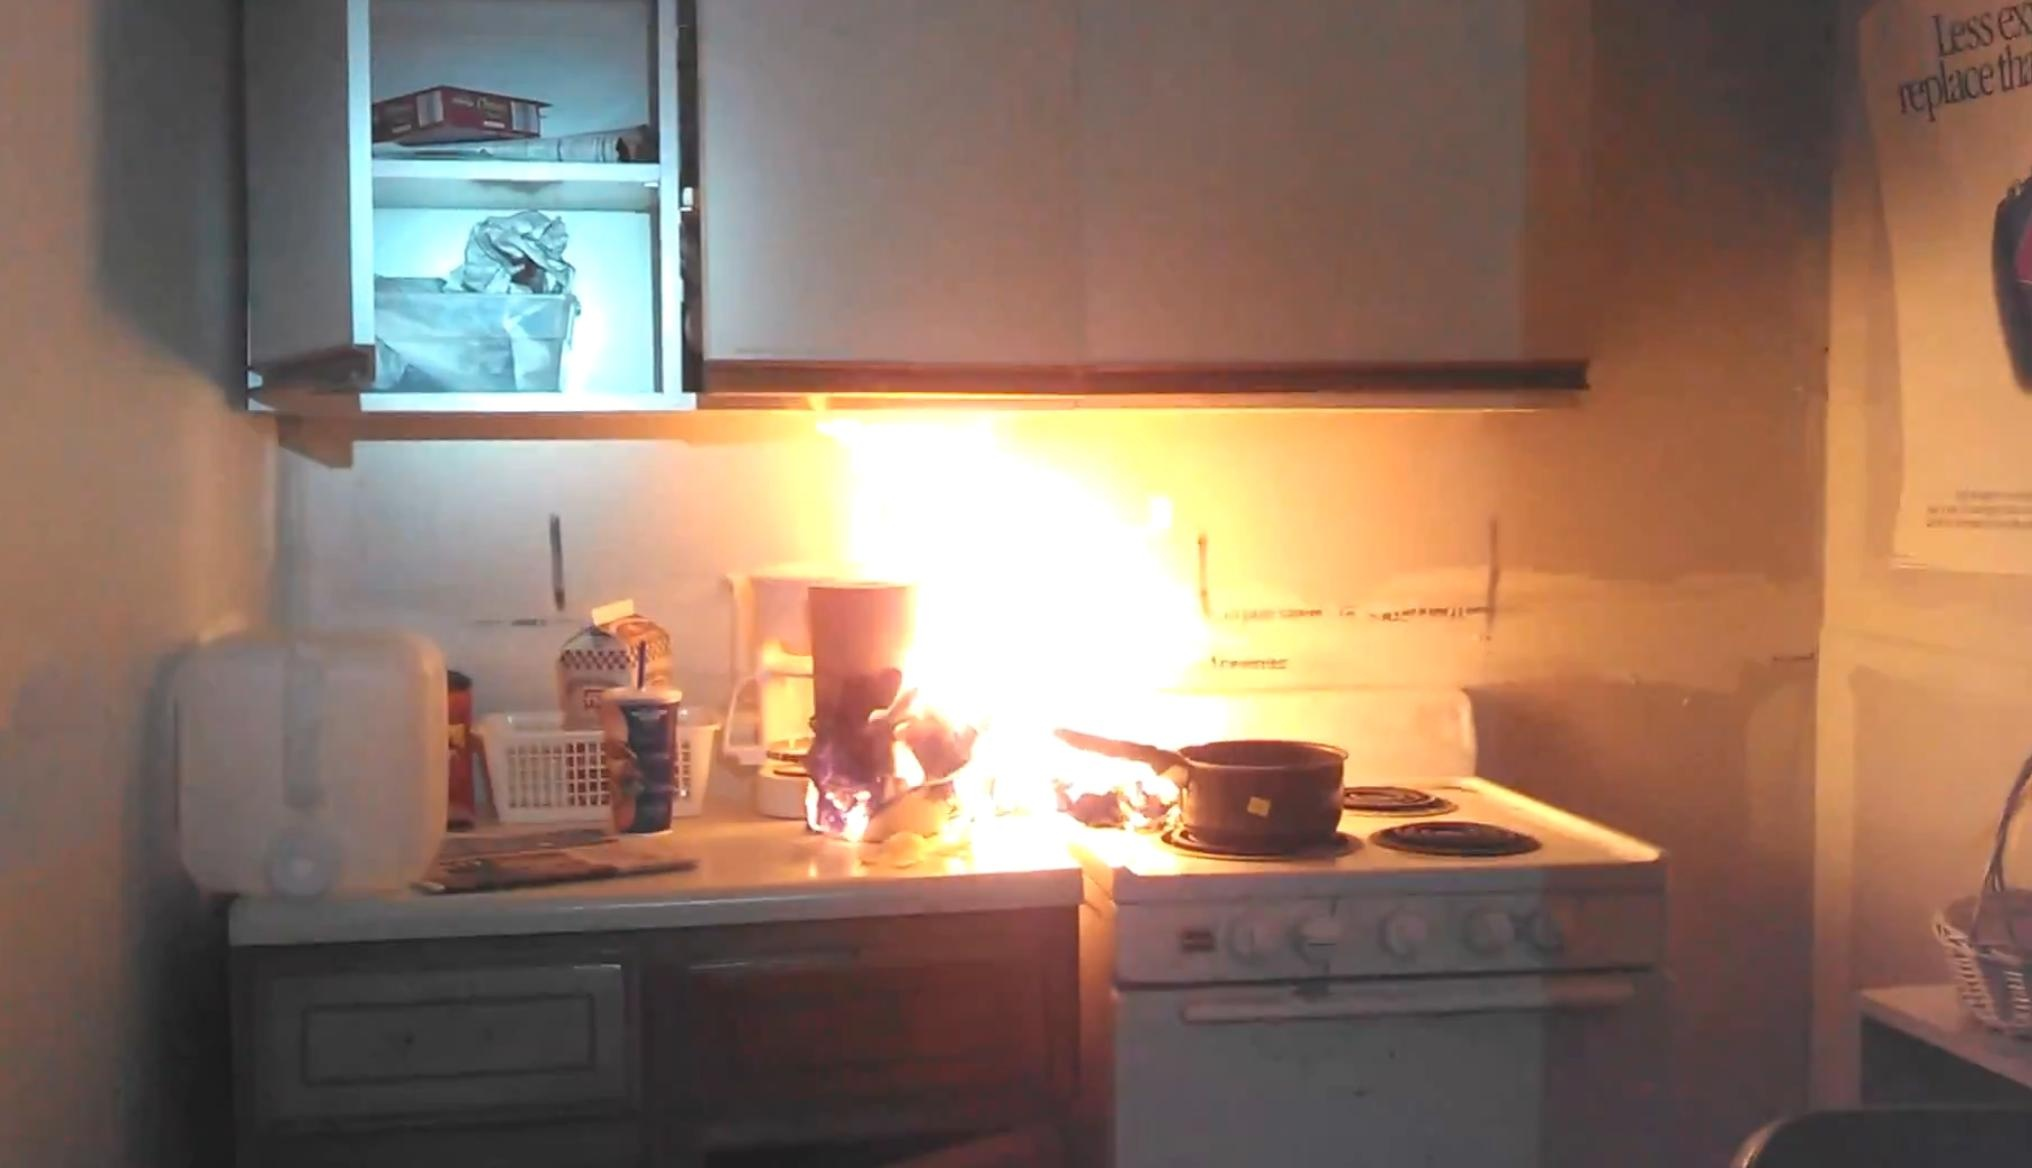fire: (836, 402, 1217, 871)
